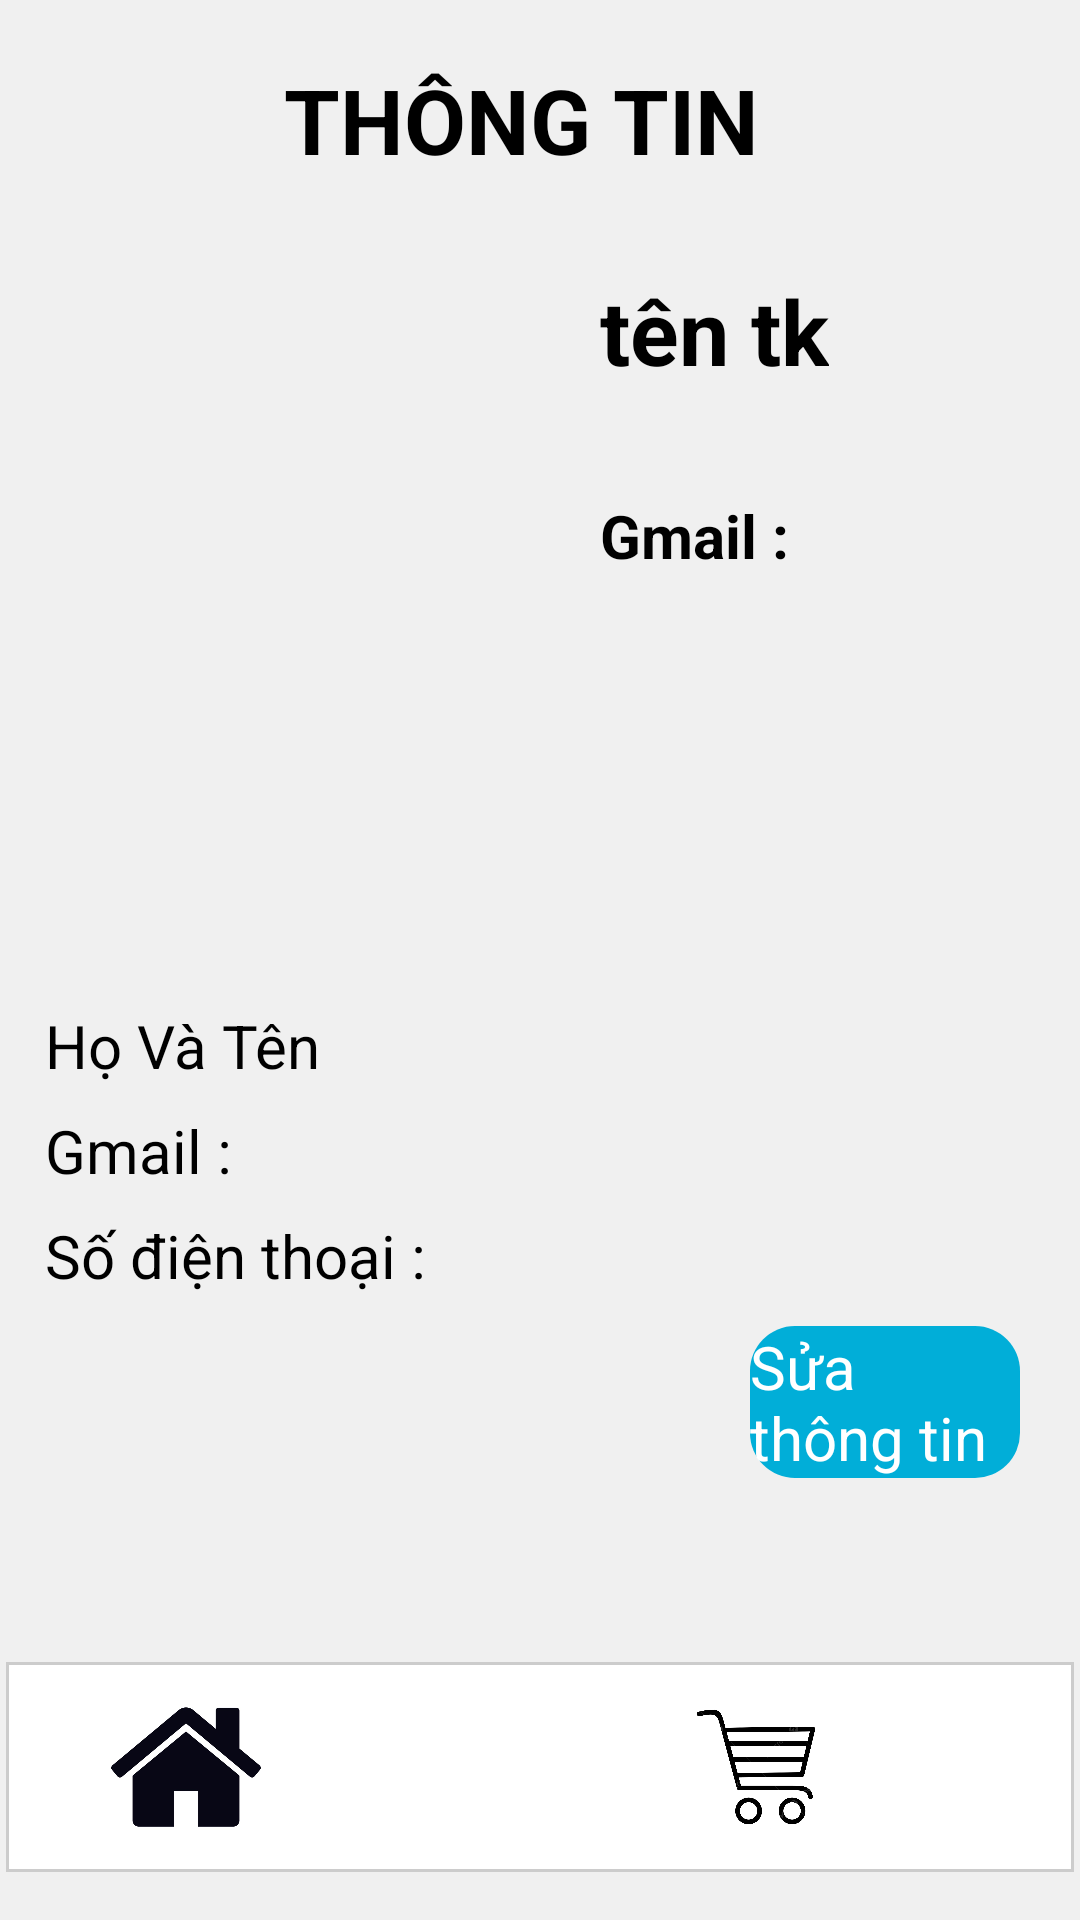

Icons on this 1080px×1920px Android screen, each with the point to tap as point (x, y):
gio hang: point (756, 1767)
home: point (186, 1767)
